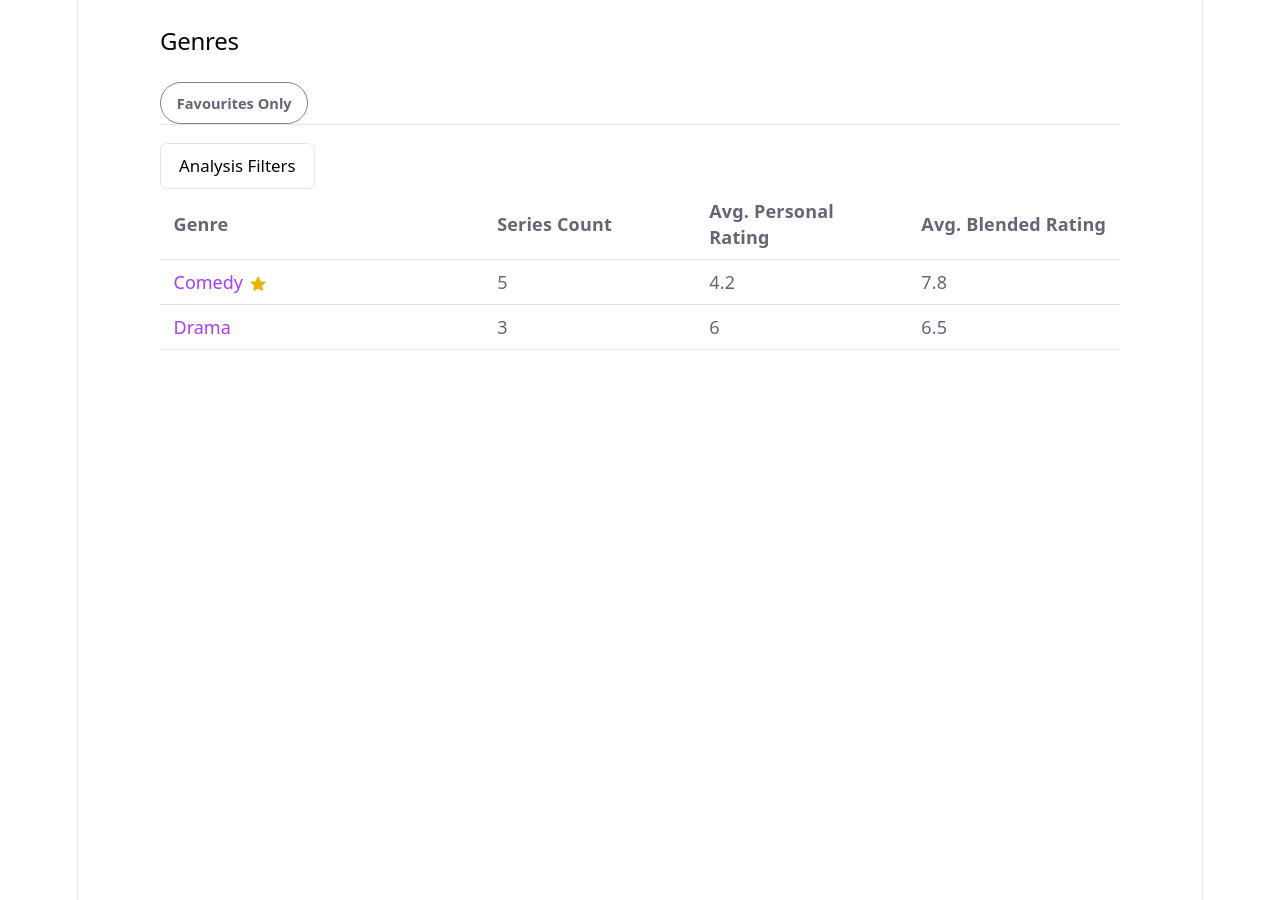
Test: FRONTEND-137-AC-03: GenreStatsView wires genreFavourites › the Favourites Only filter narrows to genreFavourites, client-side
Expected: the button "Drama" is shown, [174,314,231,340]
Click the button "Favourites Only". click: (234, 103)
box: [160,82,308,124]
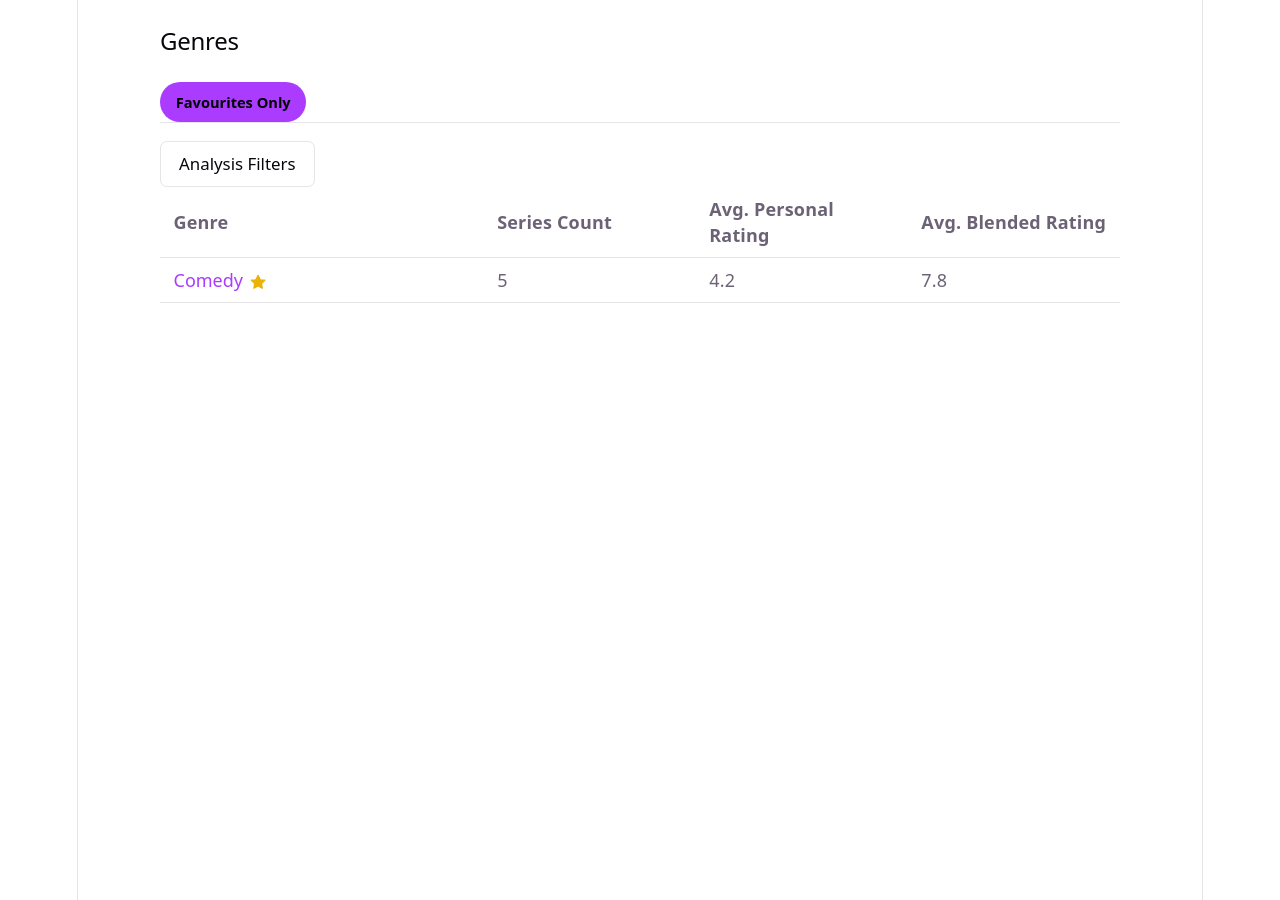
Expected: the button "Comedy" is shown, [174,267,243,293]
Expected: the button "Drama" is gone
